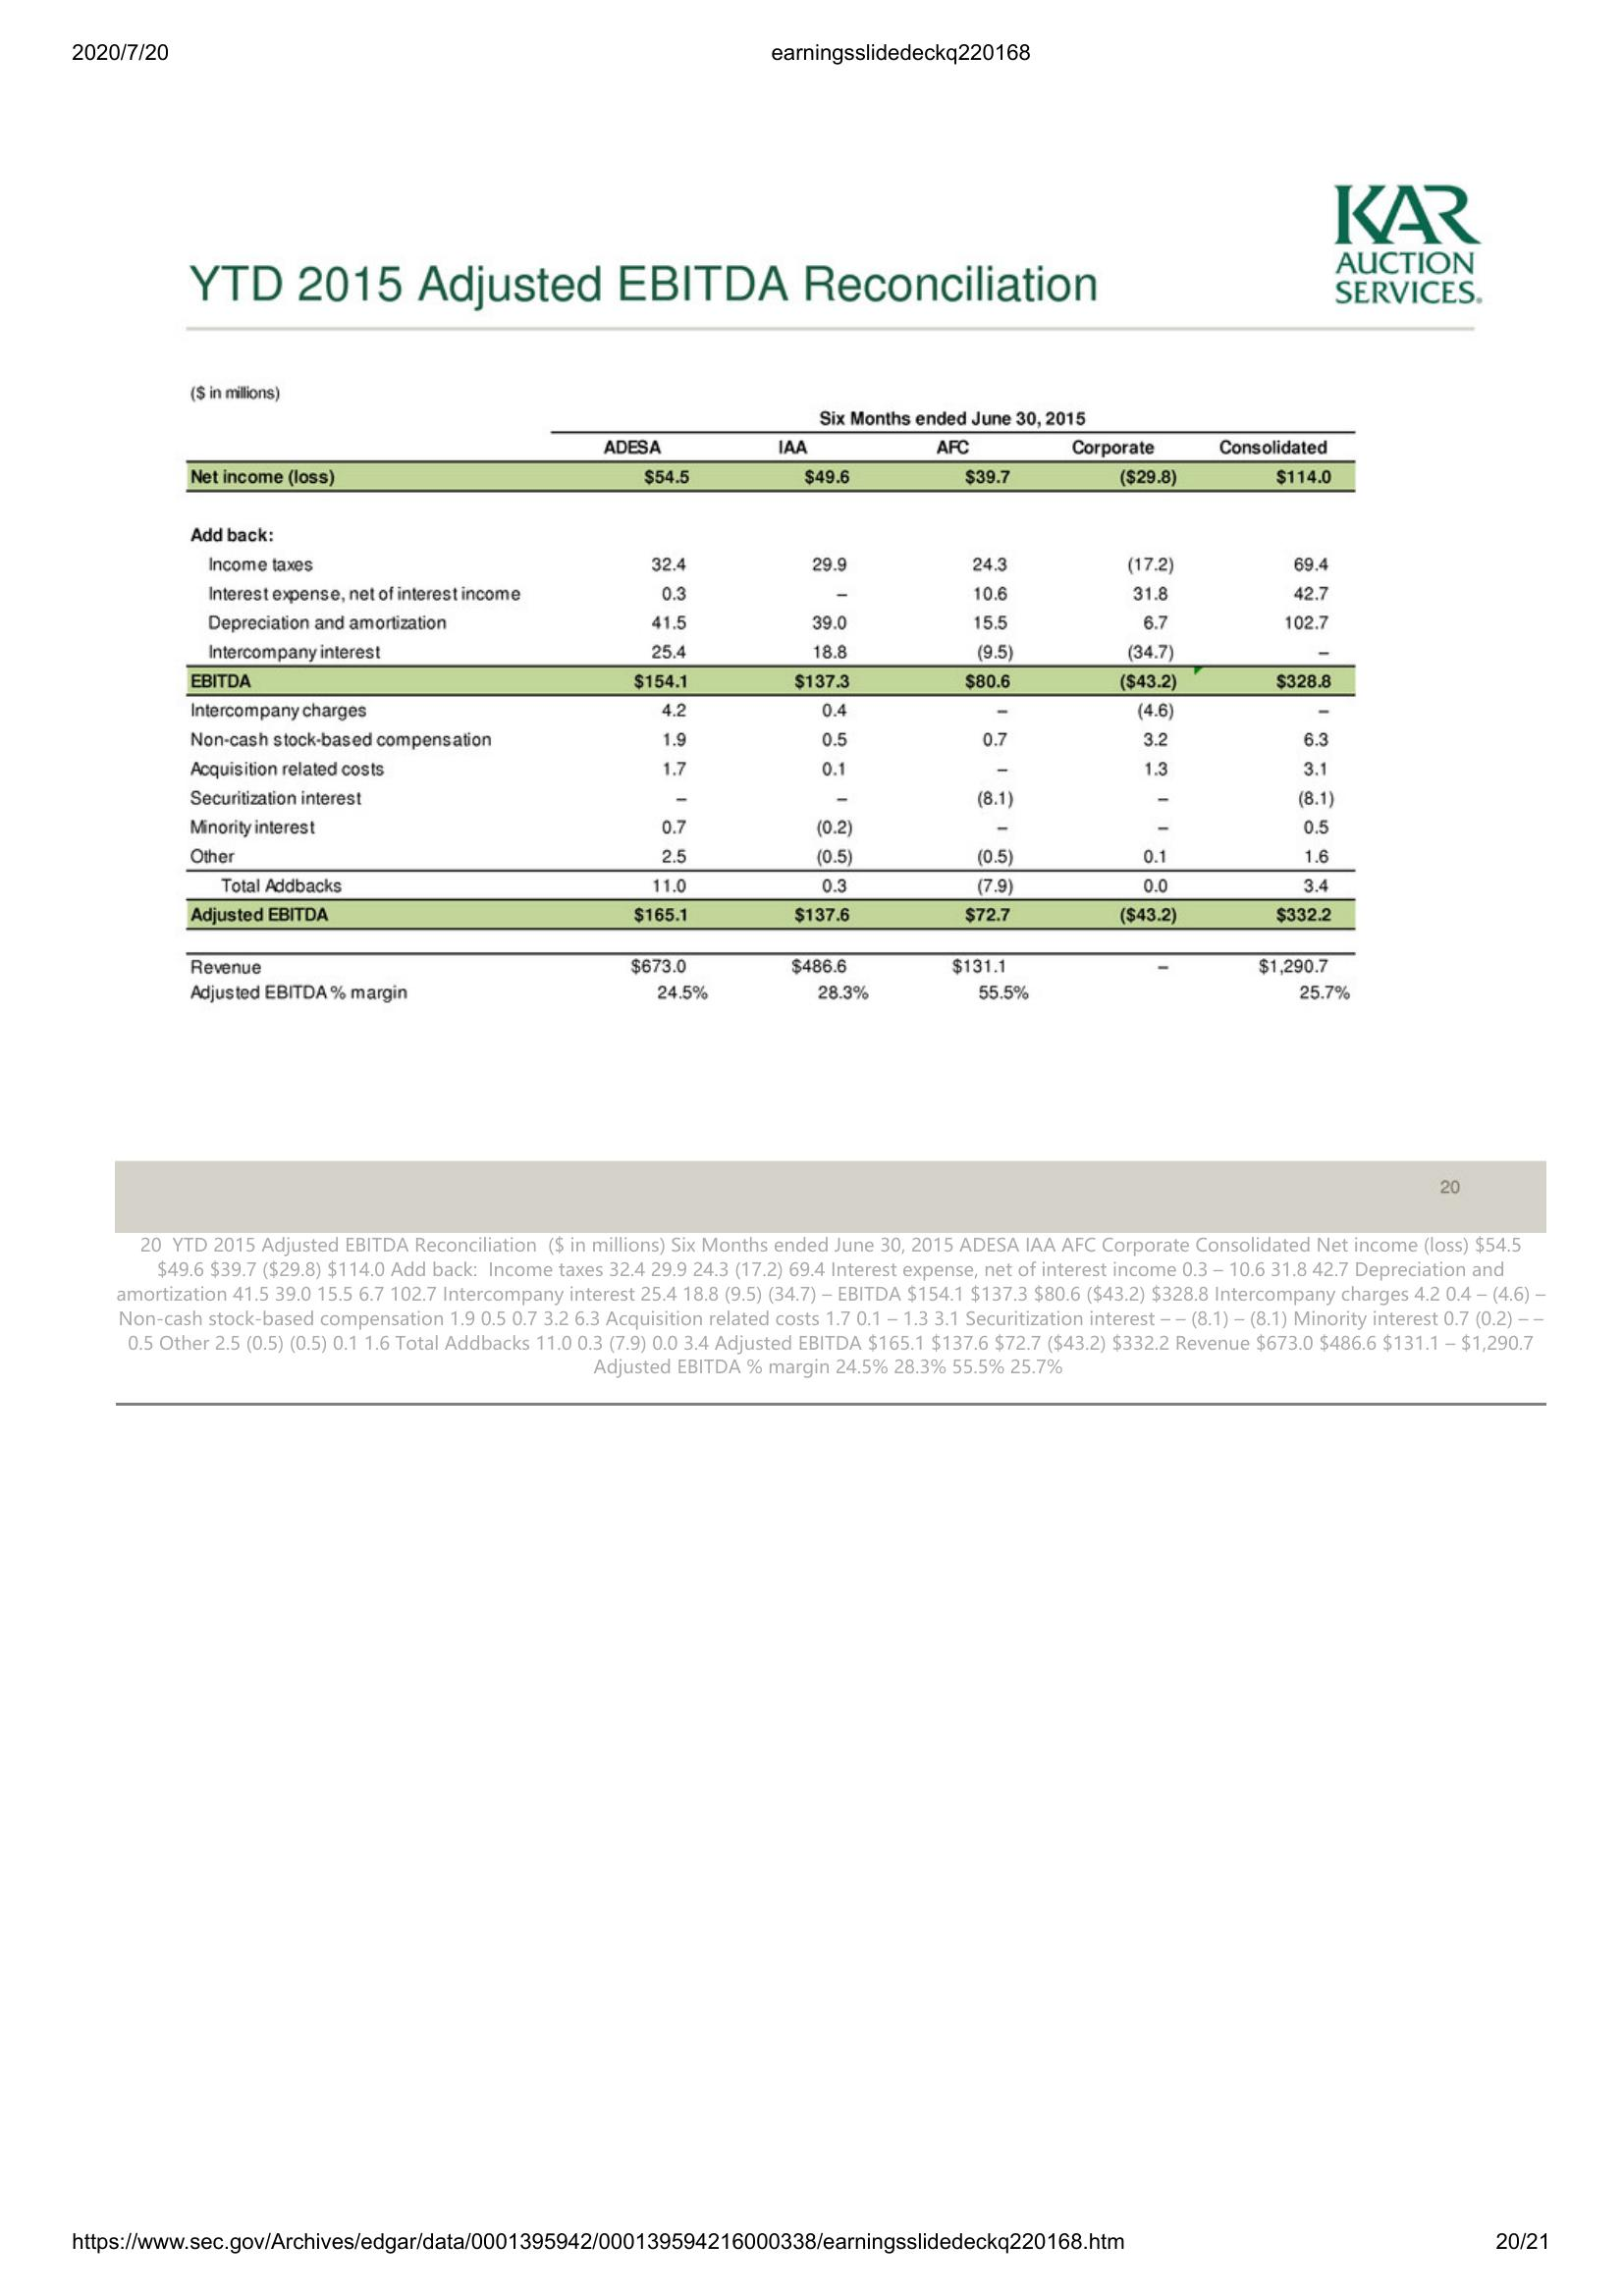table: (163, 405, 1365, 1002)
